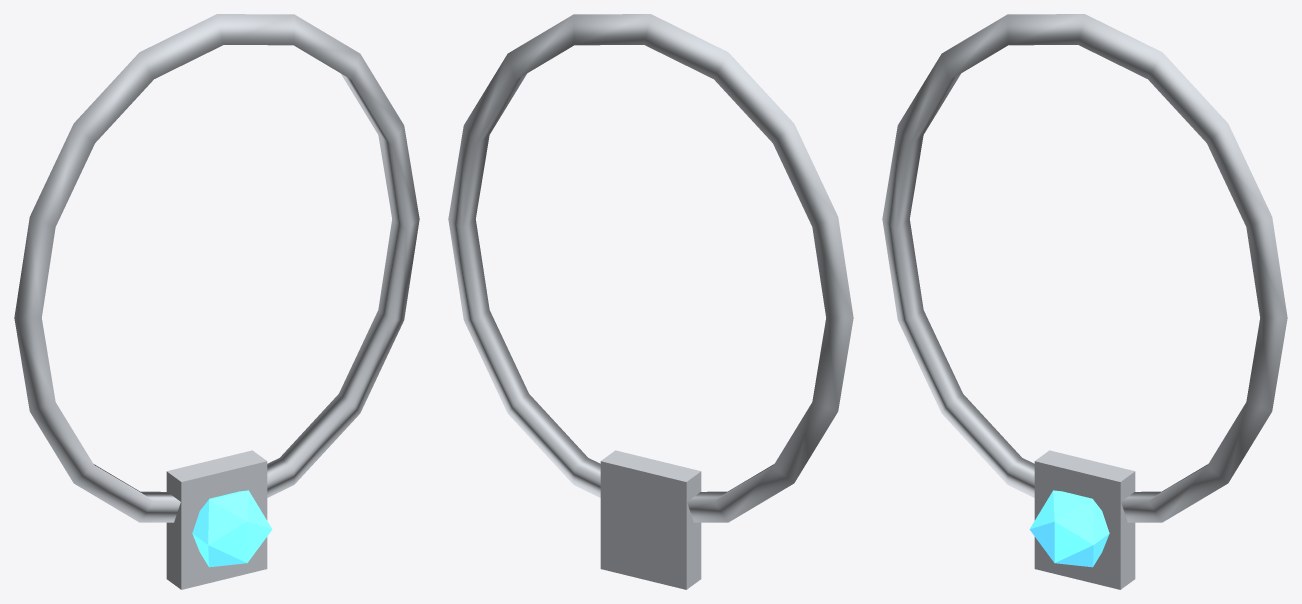
Rendered from necklace_t2.glb.
The picture shows the model from 3 angles, left to right: view 1: azimuth 30°, elevation 25°; view 2: azimuth 150°, elevation 25°; view 3: azimuth 330°, elevation 25°; orthographic projection.
Visible parts, largest first — view 1: item_chain2, item_pendantGem; view 2: item_chain2; view 3: item_chain2, item_pendantGem.
Boxes of the visible parts, box(x1,y1,x2,y2) form: item_chain2: box(14, 14, 419, 589); item_pendantGem: box(192, 490, 272, 567); item_chain2: box(448, 14, 853, 589); item_chain2: box(882, 14, 1287, 589); item_pendantGem: box(1029, 490, 1109, 567).
Bounding box in the file's own units: 0.3068 × 0.4051 × 0.0497.
